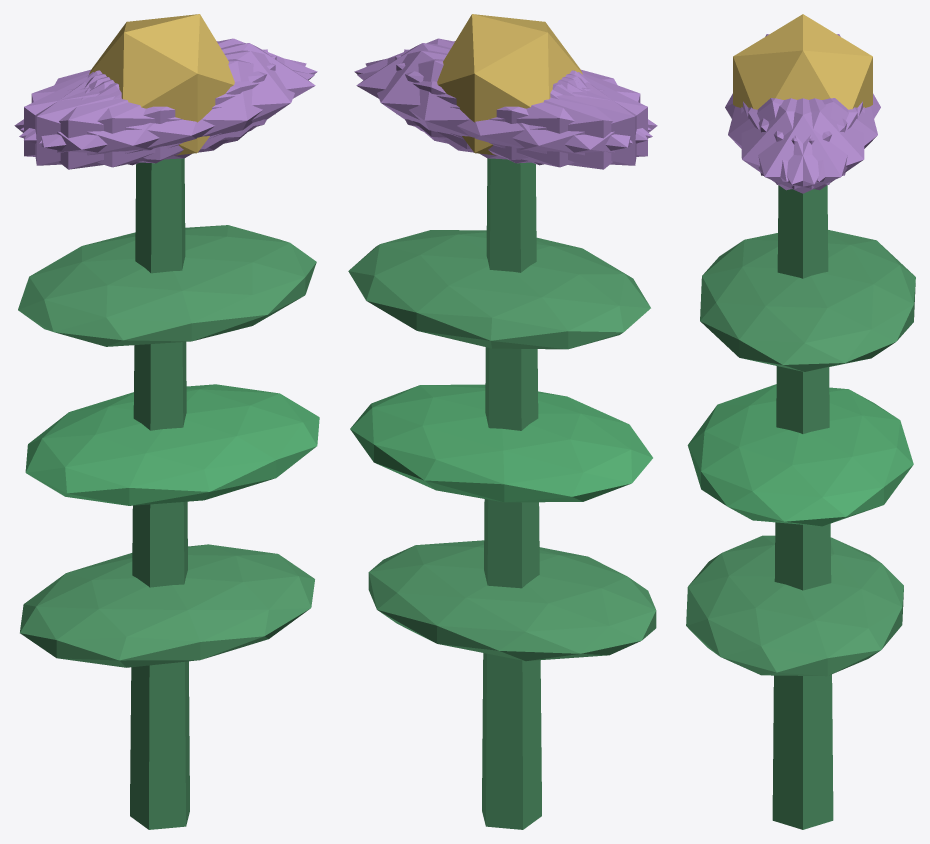
File: dracaena-surculosa.glb
3 views of the same model, side by side, from view 1: azimuth 30°, elevation 25°; view 2: azimuth 150°, elevation 25°; view 3: azimuth 270°, elevation 25° (orthographic).
Parts seen in each view (by area): view 1: leaf0, leaf1, leaf2, stem, center, petal1, petal6, petal2, petal5, petal7, petal0, petal4 (+2 smaller); view 2: leaf2, leaf1, stem, leaf0, center, petal8, petal3, petal7, petal4, petal2, petal0, petal5 (+2 smaller); view 3: leaf1, leaf2, leaf0, stem, center, petal0, petal4, petal5, petal8, petal1.
Part boxes in pixels (left/top/right/bottom): leaf0: left=20, top=544, right=314, bottom=667; leaf1: left=25, top=384, right=319, bottom=505; leaf2: left=18, top=225, right=316, bottom=346; stem: left=130, top=158, right=189, bottom=829; center: left=89, top=14, right=234, bottom=155; petal1: left=19, top=59, right=314, bottom=167; petal6: left=14, top=72, right=228, bottom=169; petal2: left=35, top=49, right=267, bottom=165; petal5: left=39, top=50, right=306, bottom=159; petal7: left=24, top=55, right=276, bottom=163; petal0: left=89, top=43, right=315, bottom=149; petal4: left=20, top=38, right=317, bottom=140; leaf2: left=348, top=230, right=650, bottom=349; leaf1: left=350, top=384, right=652, bottom=502; stem: left=482, top=158, right=541, bottom=829; leaf0: left=368, top=540, right=656, bottom=661; center: left=437, top=14, right=582, bottom=155; petal8: left=357, top=59, right=652, bottom=167; petal3: left=443, top=72, right=657, bottom=169; petal7: left=404, top=49, right=636, bottom=165; petal4: left=365, top=50, right=632, bottom=159; petal2: left=395, top=55, right=647, bottom=163; petal0: left=356, top=43, right=582, bottom=149; petal5: left=354, top=38, right=651, bottom=140; leaf1: left=687, top=384, right=913, bottom=526; leaf2: left=700, top=230, right=915, bottom=371; leaf0: left=686, top=535, right=903, bottom=676; stem: left=772, top=185, right=833, bottom=829; center: left=733, top=14, right=872, bottom=109; petal0: left=743, top=98, right=862, bottom=193; petal4: left=748, top=98, right=864, bottom=190; petal5: left=741, top=98, right=857, bottom=190; petal8: left=758, top=98, right=877, bottom=181; petal1: left=728, top=98, right=847, bottom=181.
Size of the model in its own units: 0.1452 by 0.3787 by 0.1006.
